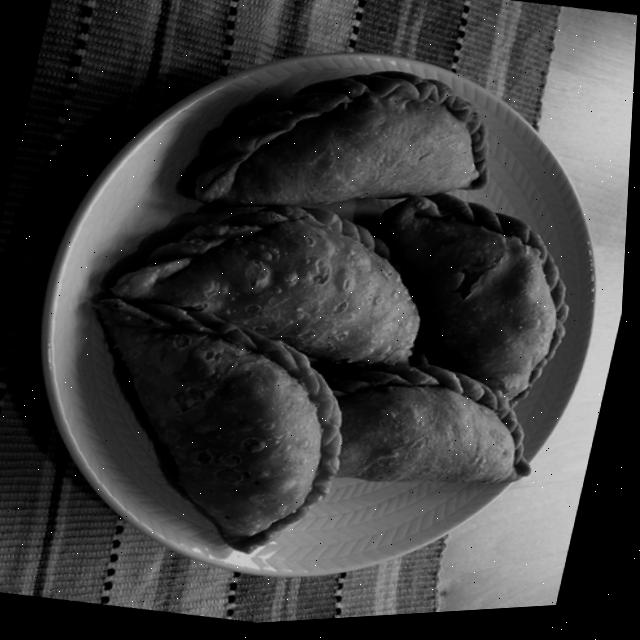炸货点心: (66, 13, 638, 619)
